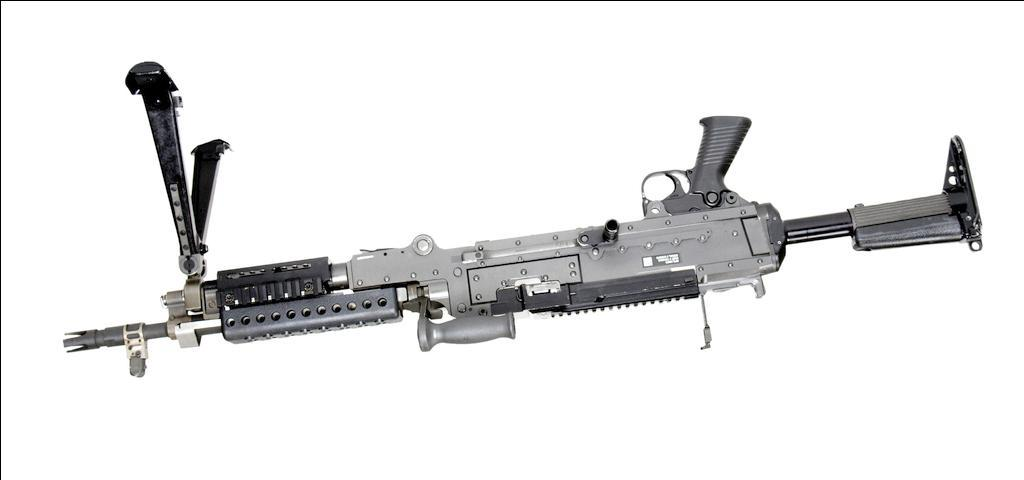gun: (62, 59, 988, 376)
